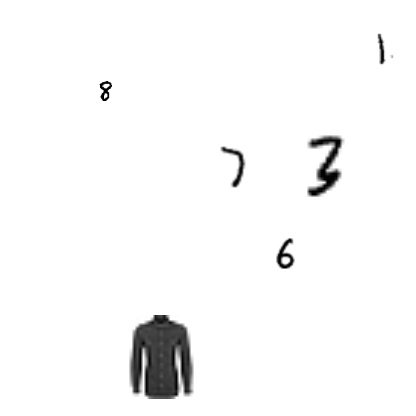2: (135, 19, 157, 41)
7: (134, 320, 162, 348)
Ankle_boot: (189, 223, 211, 245)
Coat: (22, 19, 50, 47)
Dress: (258, 310, 272, 324)
T-shirt/top: (170, 364, 212, 406), (235, 231, 277, 273)
